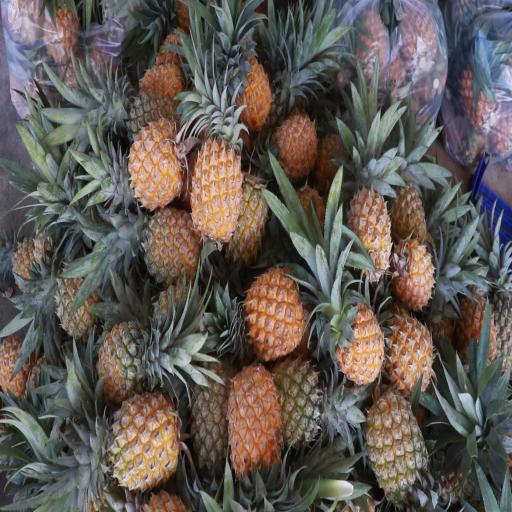------------------------------: (360, 385, 428, 512), (188, 348, 240, 489), (260, 354, 330, 450), (92, 320, 170, 406), (53, 262, 104, 347)
Pineapple - v8 v1: (101, 386, 182, 497), (224, 360, 283, 494), (240, 265, 306, 369), (191, 125, 244, 250), (133, 200, 204, 290), (125, 118, 187, 219), (343, 161, 393, 284), (227, 152, 274, 266), (382, 301, 435, 398), (335, 292, 387, 384), (266, 105, 320, 188), (384, 162, 429, 256), (386, 236, 436, 312), (230, 48, 273, 132)
